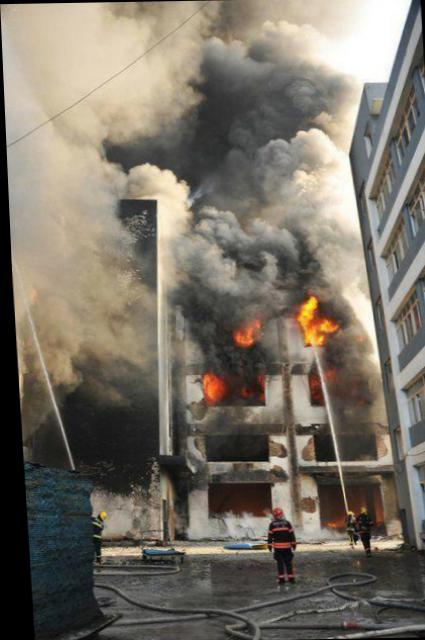fire: (294, 292, 318, 342), (231, 316, 258, 344), (198, 374, 219, 402), (316, 315, 336, 327)
